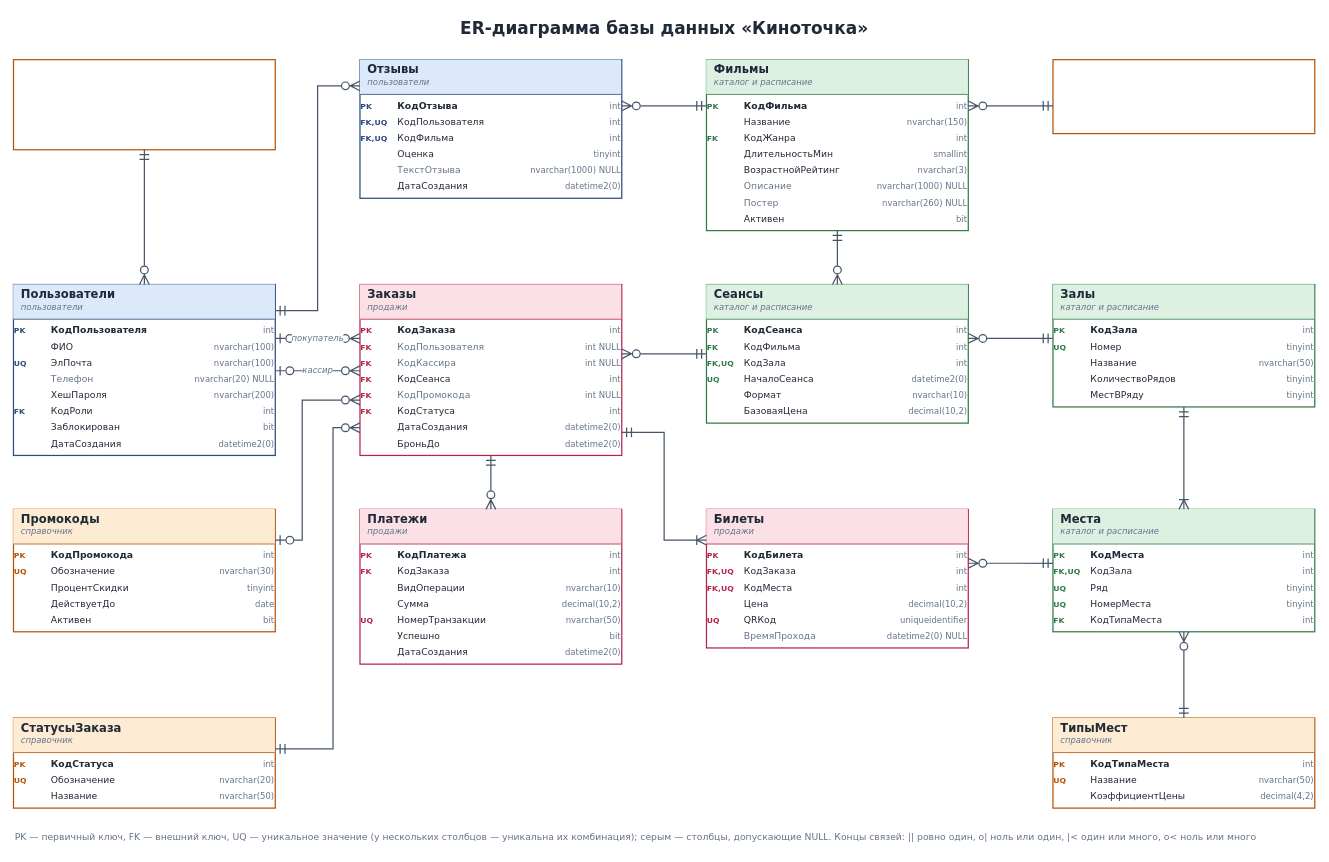
Image size: 1329x862. Some labels were removed from this diagram. The shapes that lost their labels are listed below. From the top down, each one's centre as x and y in pixels, then its label:
(x=144, y=104): Роли справочник PK КодРоли int UQ Обозначение nvarchar(20) Название nvarchar(50)
(x=1183, y=96): Жанры справочник PK КодЖанра int UQ Название nvarchar(50)
